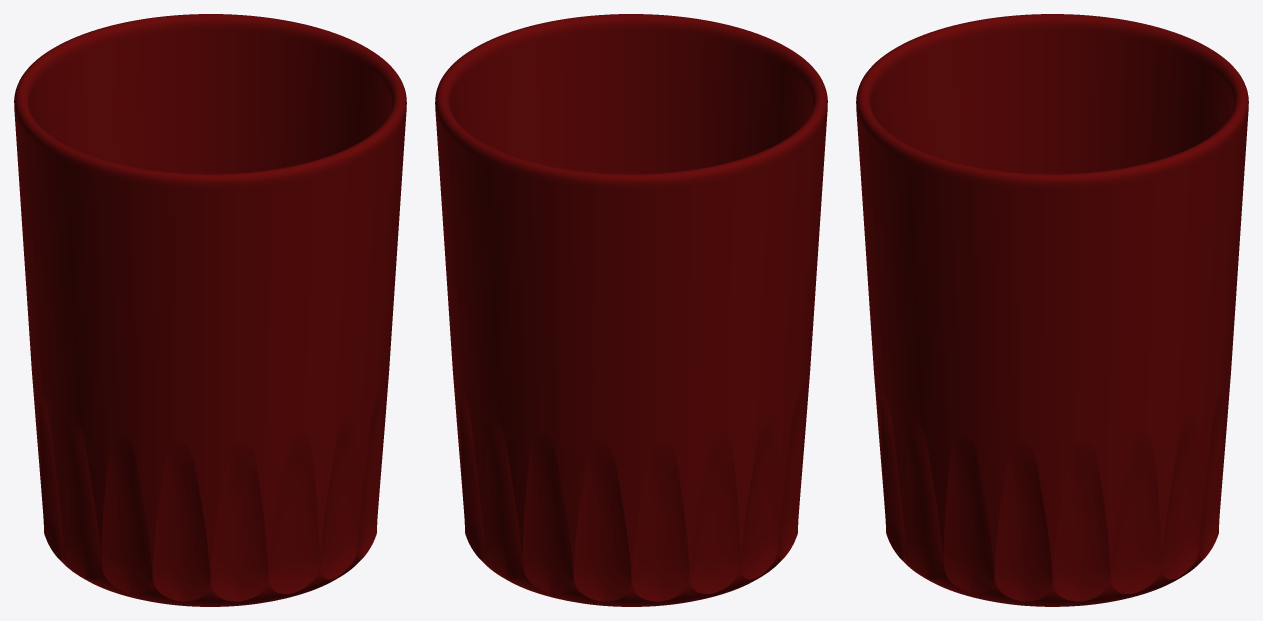
Rendered from rose 50.glb.
The picture shows the model from 3 angles, left to right: view 1: azimuth 30°, elevation 25°; view 2: azimuth 150°, elevation 25°; view 3: azimuth 270°, elevation 25°; orthographic projection.
Size of the model in its own units: 0.0646 by 0.0819 by 0.0646.
